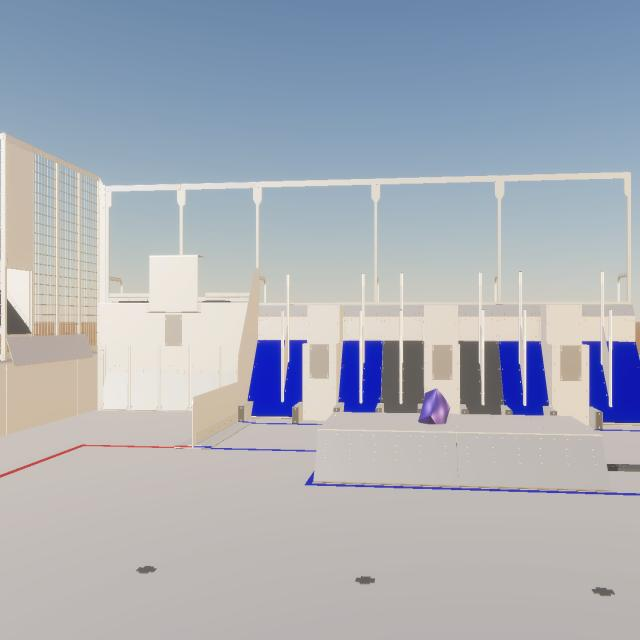frc_cube: (418, 388, 451, 424)
